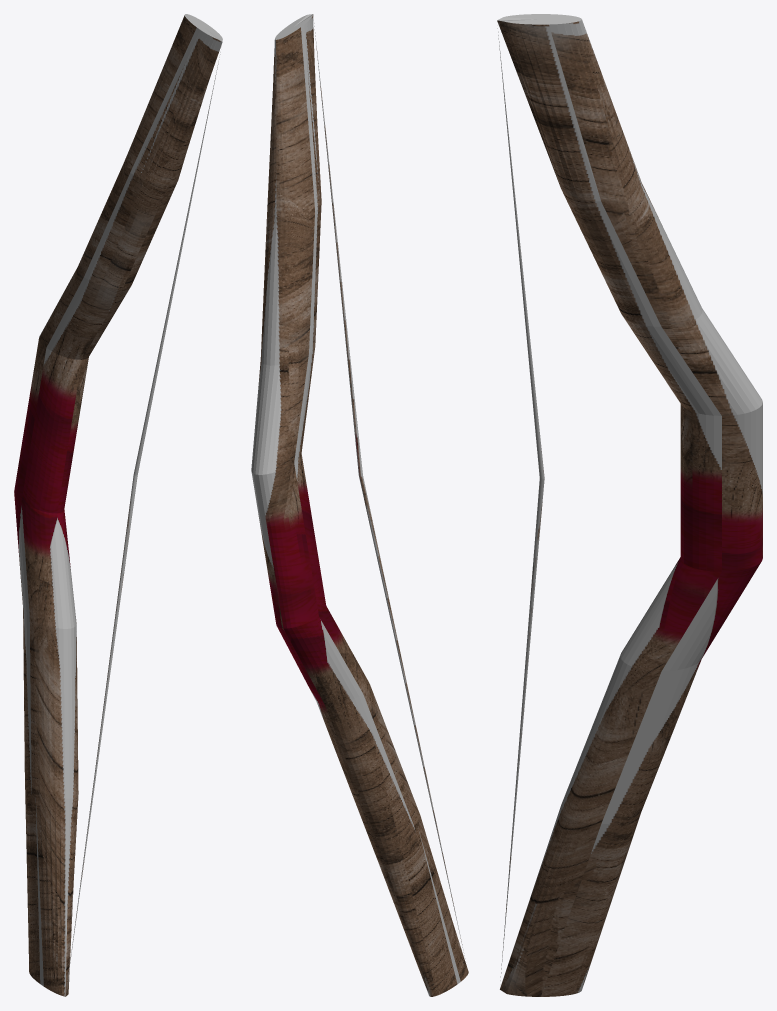
Rendered from Protagonista118.obj.
The picture shows the model from 3 angles, left to right: view 1: azimuth 30°, elevation 25°; view 2: azimuth 150°, elevation 25°; view 3: azimuth 270°, elevation 25°; orthographic projection. The views are drawn at different scales.
Parts seen in each view (by area): view 1: Cilindro; view 2: Cilindro; view 3: Cilindro.
Boxes of the visible parts, box(x1,y1,x2,y2) form: Cilindro: box(14, 14, 222, 996); Cilindro: box(251, 14, 468, 996); Cilindro: box(497, 14, 762, 996).
Size of the model in its own units: 0.1877 by 0.9705 by 0.2204.
Materials: 1 (1 with a texture image).
